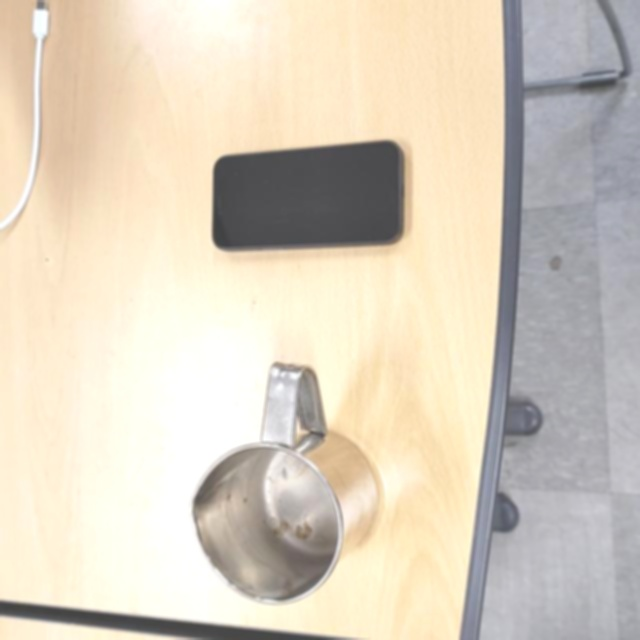cup: (187, 361, 379, 607)
phone: (210, 137, 405, 255)
